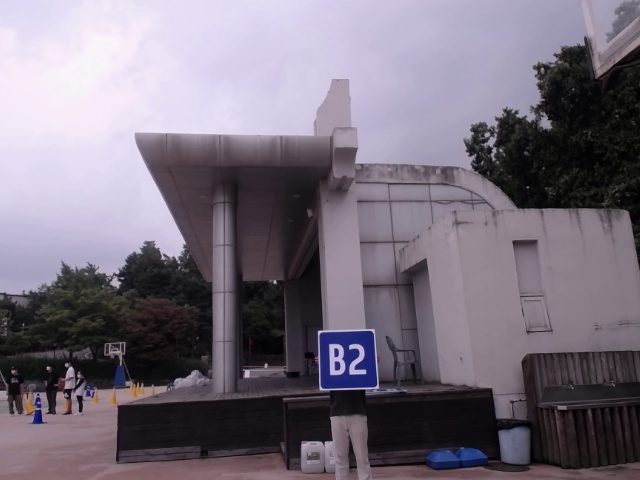delivery_b2: (318, 330, 378, 389)
